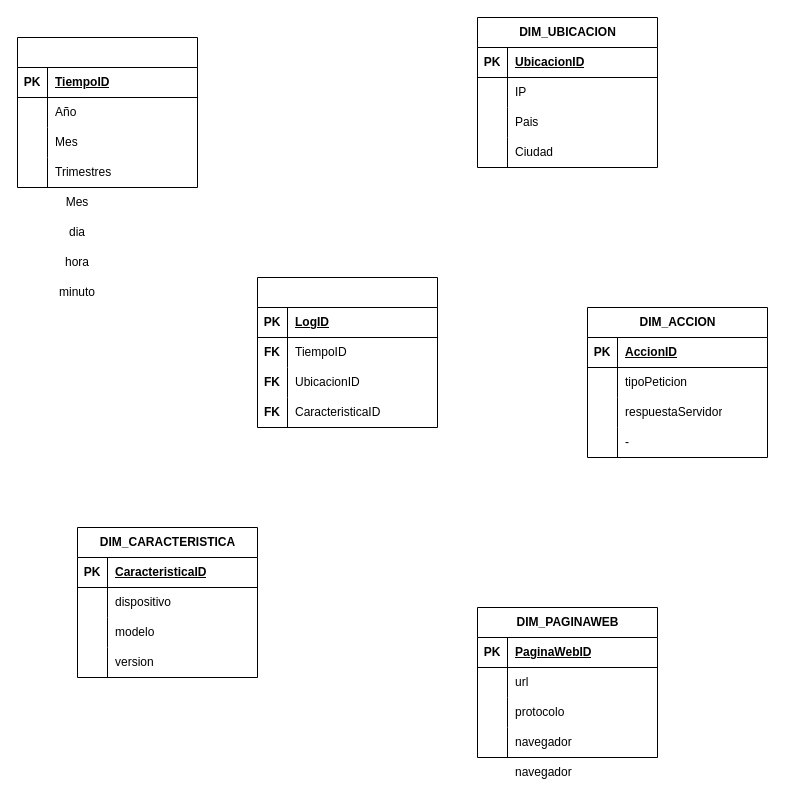
This 785x805 diagram has some shape labels left out. Each missing label, with the box of its shape:
DIM_TIEMPO: (16, 36, 198, 188)
FACT_LOG: (256, 276, 438, 428)
